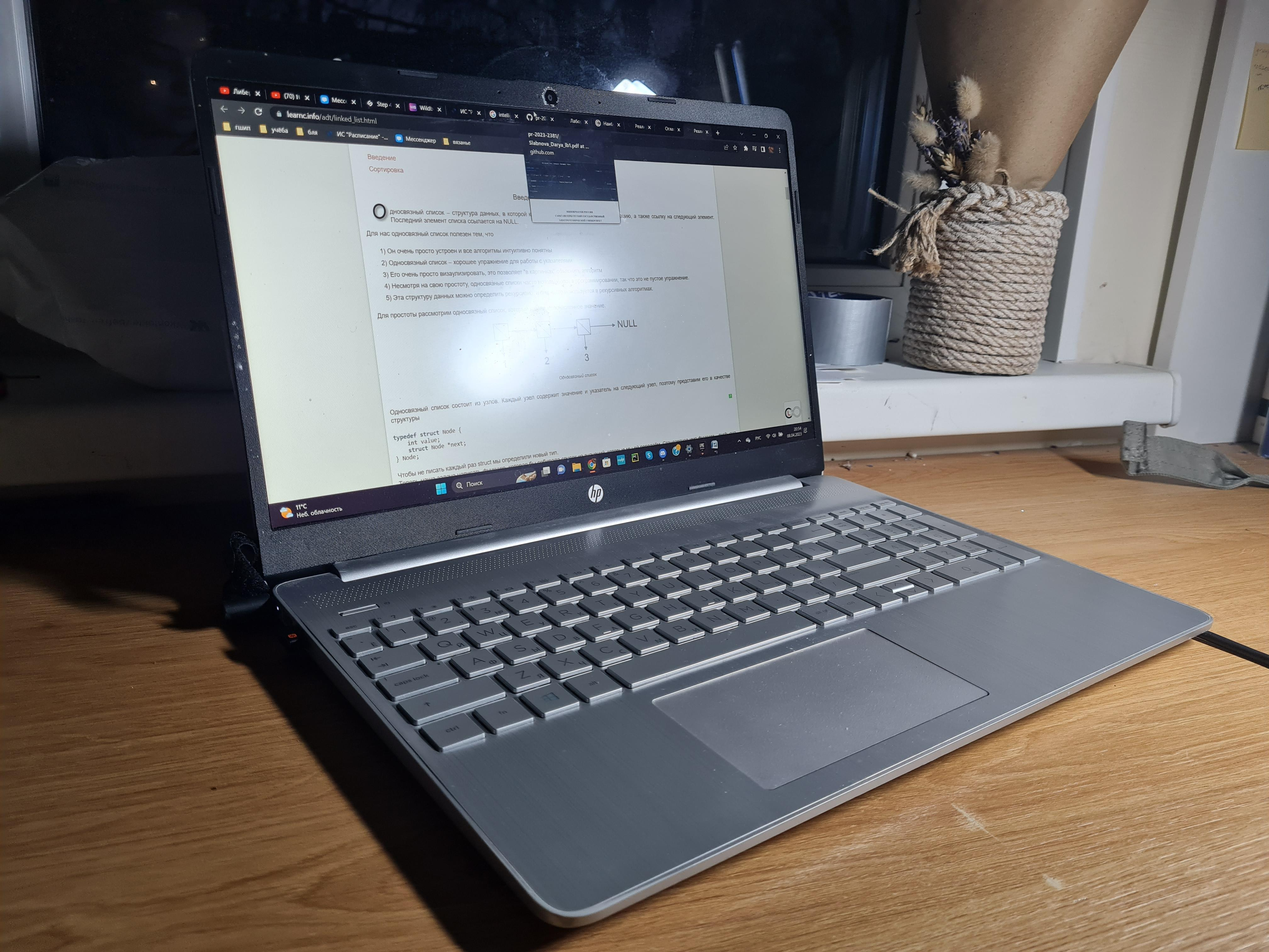monitor: (176, 42, 842, 595)
